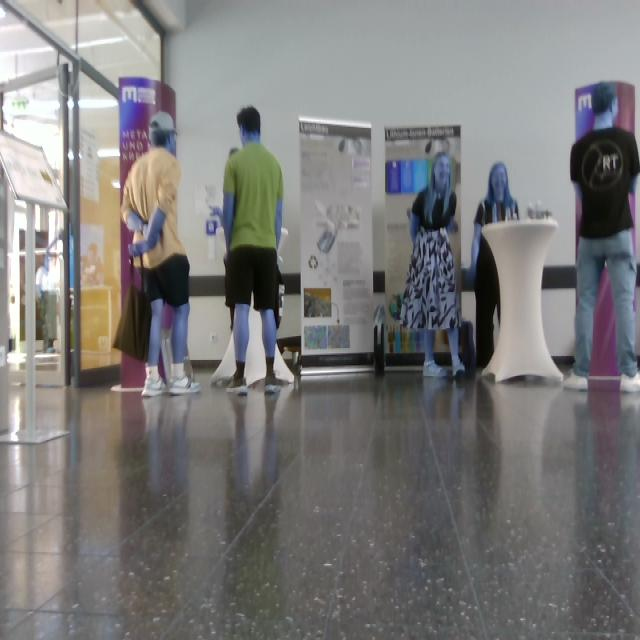door: (299, 117, 376, 374)
light bulb: (277, 228, 289, 264)
person: (563, 81, 640, 393), (120, 110, 202, 397), (223, 106, 286, 396), (401, 152, 466, 378), (471, 162, 520, 368)
tiled floor: (1, 364, 640, 640)
